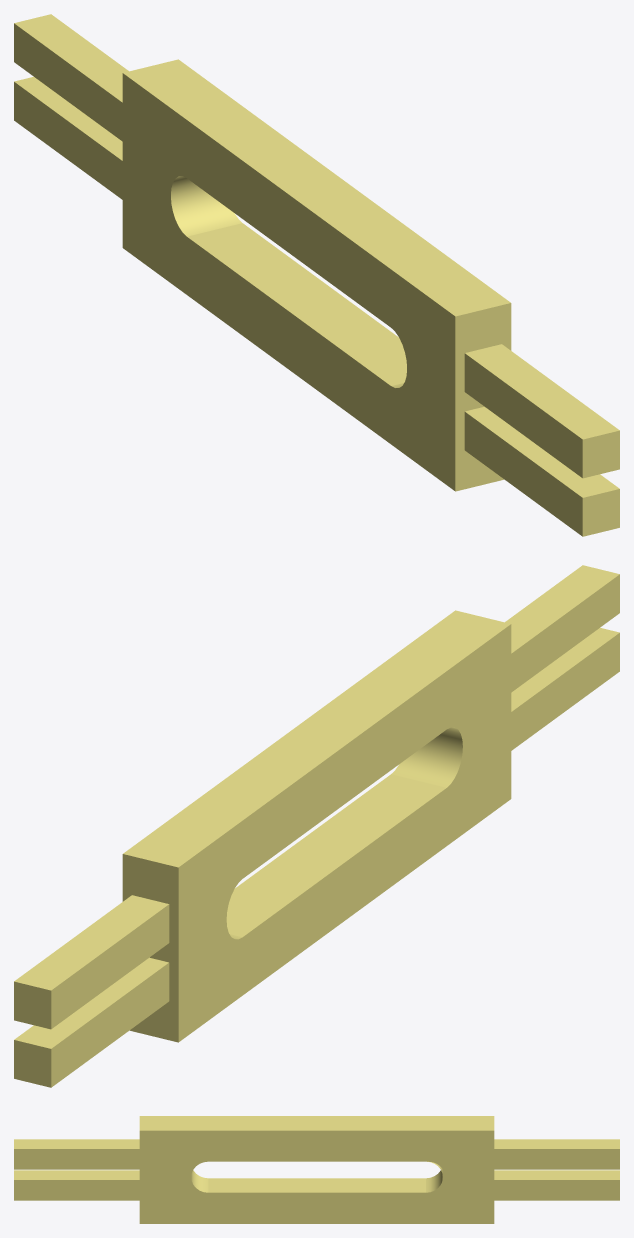
File: original-54.obj
3 views of the same model, one above another, from view 1: azimuth 30°, elevation 25°; view 2: azimuth 150°, elevation 25°; view 3: azimuth 270°, elevation 25° (orthographic). The views are drawn at different scales.
Parts seen in each view (by area): view 1: Rail2_1/Rail2/mesh53/mesh53-geometry#mesh53-geometry; view 2: Rail2_1/Rail2/mesh53/mesh53-geometry#mesh53-geometry; view 3: Rail2_1/Rail2/mesh53/mesh53-geometry#mesh53-geometry.
Part boxes in pixels (x1,y1,x2,y2): Rail2_1/Rail2/mesh53/mesh53-geometry#mesh53-geometry: (14,14,619,536); Rail2_1/Rail2/mesh53/mesh53-geometry#mesh53-geometry: (14,565,619,1087); Rail2_1/Rail2/mesh53/mesh53-geometry#mesh53-geometry: (14,1116,619,1223).
Size of the model in its own units: 0.0254 by 0.0761 by 0.4484.
